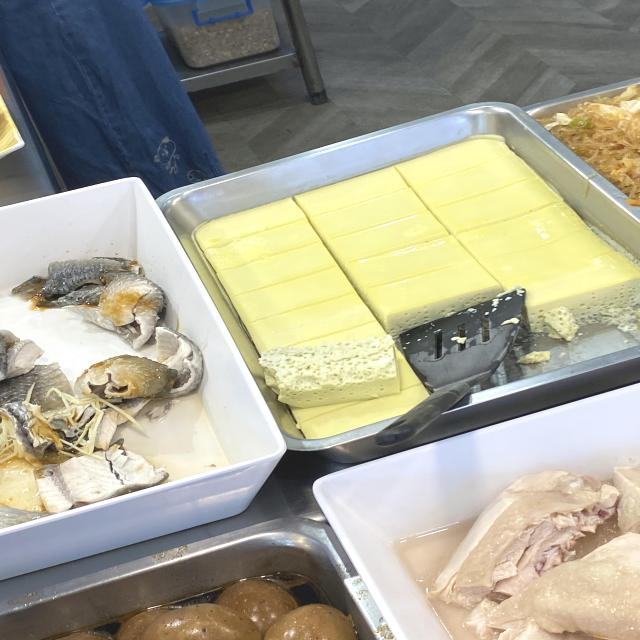steamed egg: (295, 196, 545, 287)
